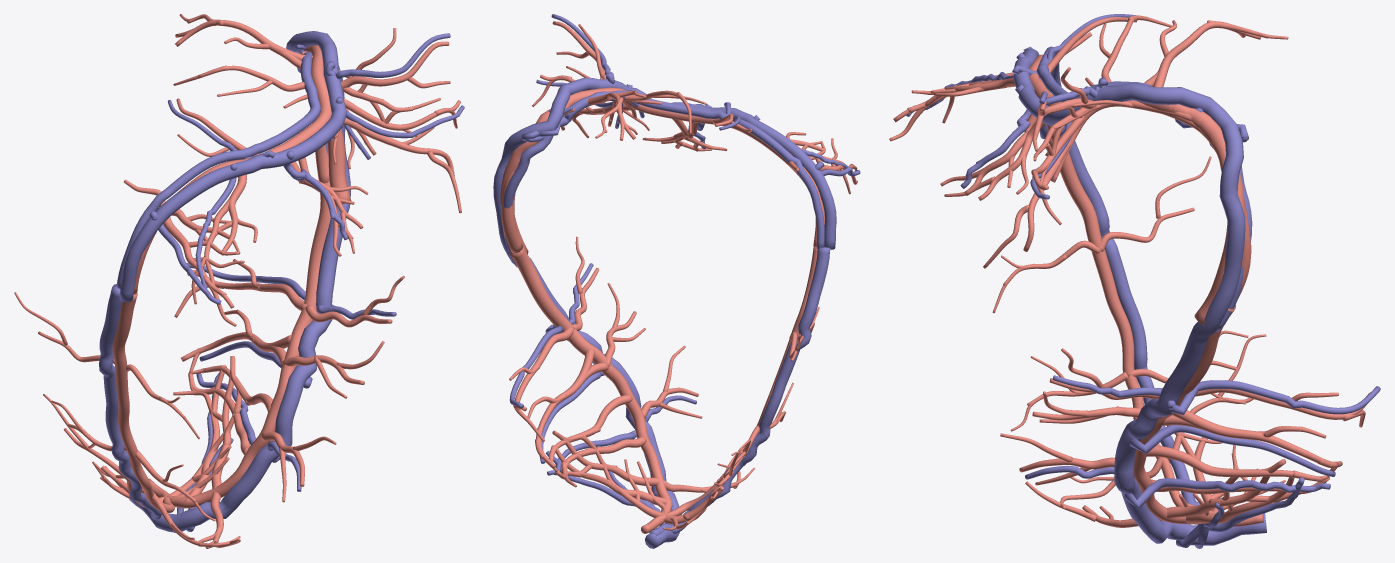
Rendered from vessels_49.glb.
3 views of the same model, side by side, from view 1: azimuth 30°, elevation 25°; view 2: azimuth 150°, elevation 25°; view 3: azimuth 270°, elevation 25° (orthographic). The views are drawn at different scales.
Visible parts, largest first — view 1: Renderer Node; view 2: Renderer Node; view 3: Renderer Node.
Boxes of the visible parts, x1,y1,x2,y2 form: Renderer Node: (14, 14, 464, 548); Renderer Node: (493, 14, 860, 548); Renderer Node: (889, 14, 1380, 548).
Bounding box in the file's own units: 94.8 × 122 × 95.34.
